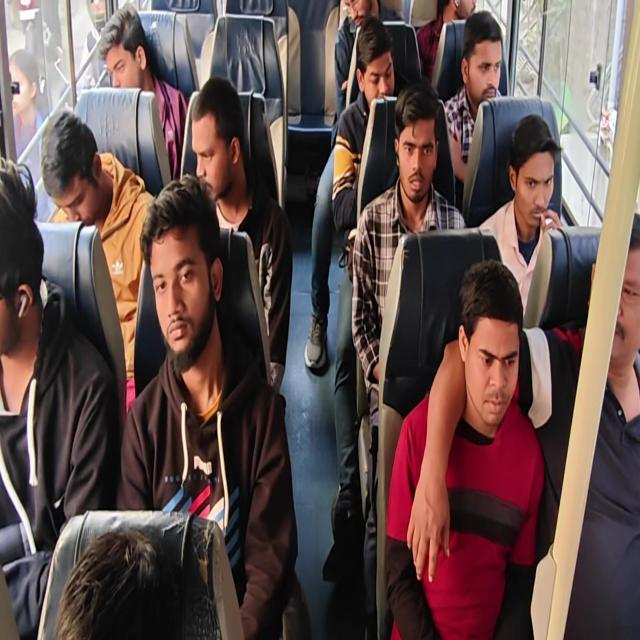person: (1, 1, 638, 638), (411, 210, 639, 638), (116, 173, 300, 638), (350, 79, 468, 637), (383, 258, 544, 638), (0, 156, 121, 638), (40, 110, 156, 414), (189, 75, 293, 394), (304, 15, 396, 370), (54, 524, 222, 638), (478, 113, 564, 325), (97, 3, 188, 179), (443, 10, 503, 192), (333, 0, 403, 124), (8, 48, 57, 222), (415, 0, 477, 84)
